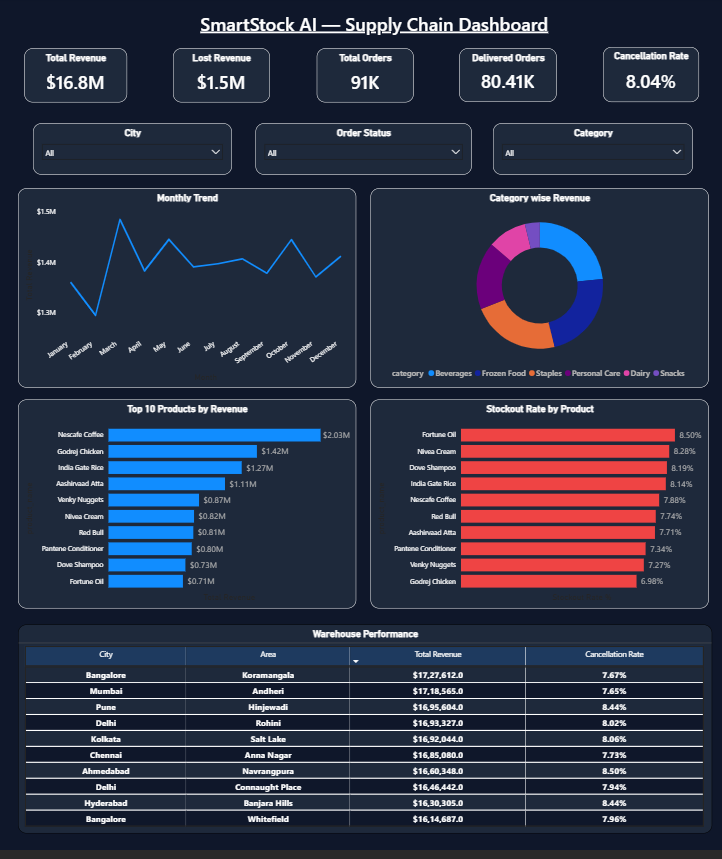

This screenshot's page, from the dashboard's own definition file:
{"tool":"powerbi","page":{"name":"Page 1","canvas":[1280,1500],"ordinal":0},"visuals":[{"type":"textbox","box":[276.8,19.8,768.9,68.1],"z":0},{"type":"cardVisual","title":"Total Revenue","fields":{"Data":["orders.Total Revenue"]},"box":[45.7,90.2,180.9,95.2],"z":1000},{"type":"cardVisual","title":"Lost Revenue","fields":{"Data":["orders.Lost Revenue"]},"box":[307.9,89.4,170,95.3],"z":2000},{"type":"cardVisual","title":"Total Orders","fields":{"Data":["orders.Total Orders"]},"box":[559.2,89.4,170,95.3],"z":3000},{"type":"cardVisual","title":"Cancellation Rate","fields":{"Data":["orders.Cancellation Rate"]},"box":[1063.3,87.9,169.2,96.7],"z":4000},{"type":"cardVisual","title":"Delivered Orders","fields":{"Data":["orders.Stockout Rate"]},"box":[810.6,90.1,171.4,94.5],"z":5000},{"type":"lineChart","title":"Monthly Trend","fields":{"Category":["orders.order_date.Variation.Date Hierarchy.Month"],"Y":["orders.Total Revenue"]},"box":[34.3,336.6,594.6,350.6],"z":6000},{"type":"donutChart","title":" Category wise Revenue","fields":{"Category":["products.category"],"Y":["orders.Total Revenue"]},"box":[655.5,336.6,594.6,350],"z":7000},{"type":"clusteredBarChart","title":"Top 10 Products by Revenue","fields":{"Y":["orders.Total Revenue"],"Category":["products.product_name"]},"box":[34.3,707.7,594.6,367],"z":8000},{"type":"clusteredBarChart","title":"Stockout Rate by Product ","fields":{"Category":["products.product_name"],"Y":["orders.Cancellation Rate"]},"box":[655.5,707.7,594.6,367],"z":9000},{"type":"tableEx","title":"Warehouse Performance","fields":{"Values":["warehouses.city","warehouses.area","orders.Total Revenue","orders.Cancellation Rate"]},"box":[34.3,1103.4,1220,367],"z":10000},{"type":"slicer","title":"City","fields":{"Values":["warehouses.city"]},"box":[61.5,221.9,349.3,90.1],"z":11000},{"type":"slicer","title":"Category","fields":{"Values":["products.category"]},"box":[870,221.9,351.5,90.1],"z":12000},{"type":"slicer","title":"Order Status","fields":{"Values":["orders.order_status"]},"box":[452.6,221.9,380.1,90.1],"z":13000}]}

Visuals, with their boxes in screenshot pixels (x1, y1, x2, y2), scaled from the page's 1280x1500 canvas onto the 722x859 screenshot:
textbox: crop(156, 11, 590, 50)
"Total Revenue" cardVisual: crop(26, 52, 128, 106)
"Lost Revenue" cardVisual: crop(174, 51, 270, 106)
"Total Orders" cardVisual: crop(315, 51, 411, 106)
"Cancellation Rate" cardVisual: crop(600, 50, 695, 106)
"Delivered Orders" cardVisual: crop(457, 52, 554, 106)
"Monthly Trend" lineChart: crop(19, 193, 355, 394)
" Category wise Revenue" donutChart: crop(370, 193, 705, 393)
"Top 10 Products by Revenue" clusteredBarChart: crop(19, 405, 355, 615)
"Stockout Rate by Product " clusteredBarChart: crop(370, 405, 705, 615)
"Warehouse Performance" tableEx: crop(19, 632, 708, 842)
"City" slicer: crop(35, 127, 232, 179)
"Category" slicer: crop(491, 127, 689, 179)
"Order Status" slicer: crop(255, 127, 470, 179)
